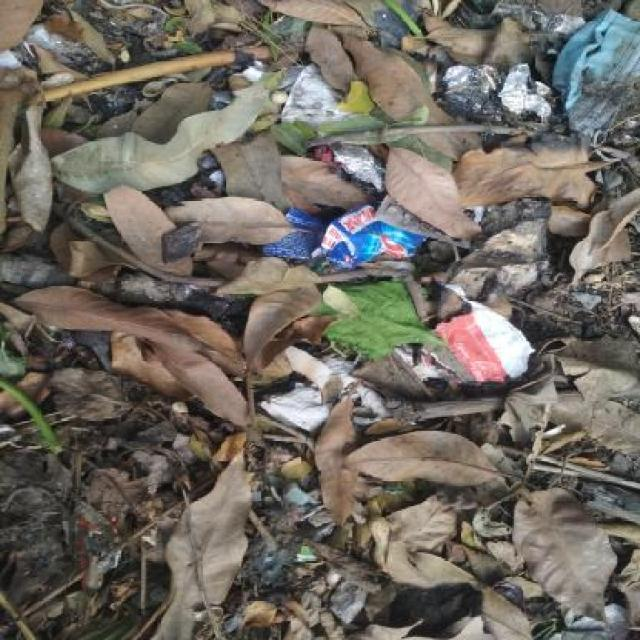garbage: (9, 379, 632, 629), (11, 177, 640, 366), (0, 0, 640, 158)
